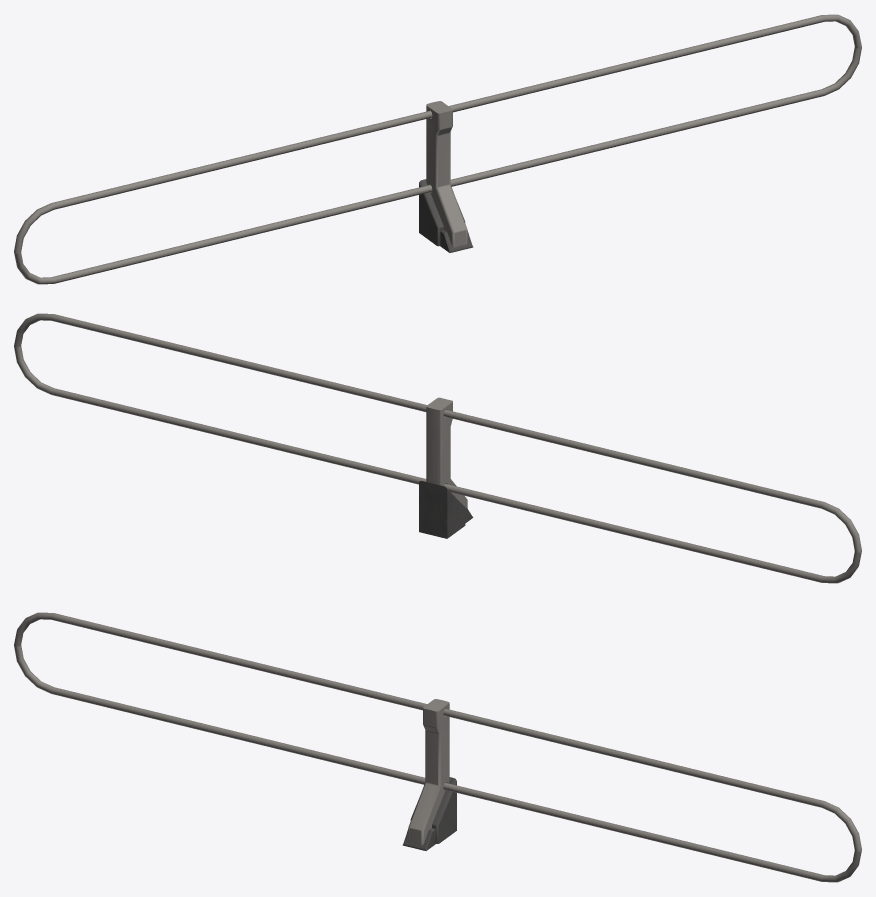
File: Railing_01.fbx
The picture shows the model from 3 angles, top to bottom: view 1: azimuth 30°, elevation 25°; view 2: azimuth 150°, elevation 25°; view 3: azimuth 330°, elevation 25°; orthographic projection.
Visible parts, largest first — view 1: Corridor_Railing_01; view 2: Corridor_Railing_01; view 3: Corridor_Railing_01.
Part boxes in pixels (left/top/right/bottom): Corridor_Railing_01: left=14, top=14, right=861, bottom=284; Corridor_Railing_01: left=14, top=313, right=861, bottom=583; Corridor_Railing_01: left=14, top=612, right=861, bottom=882.
Size of the model in its own units: 770 by 110 by 45.08.
Materials: 1 (1 with a texture image).
